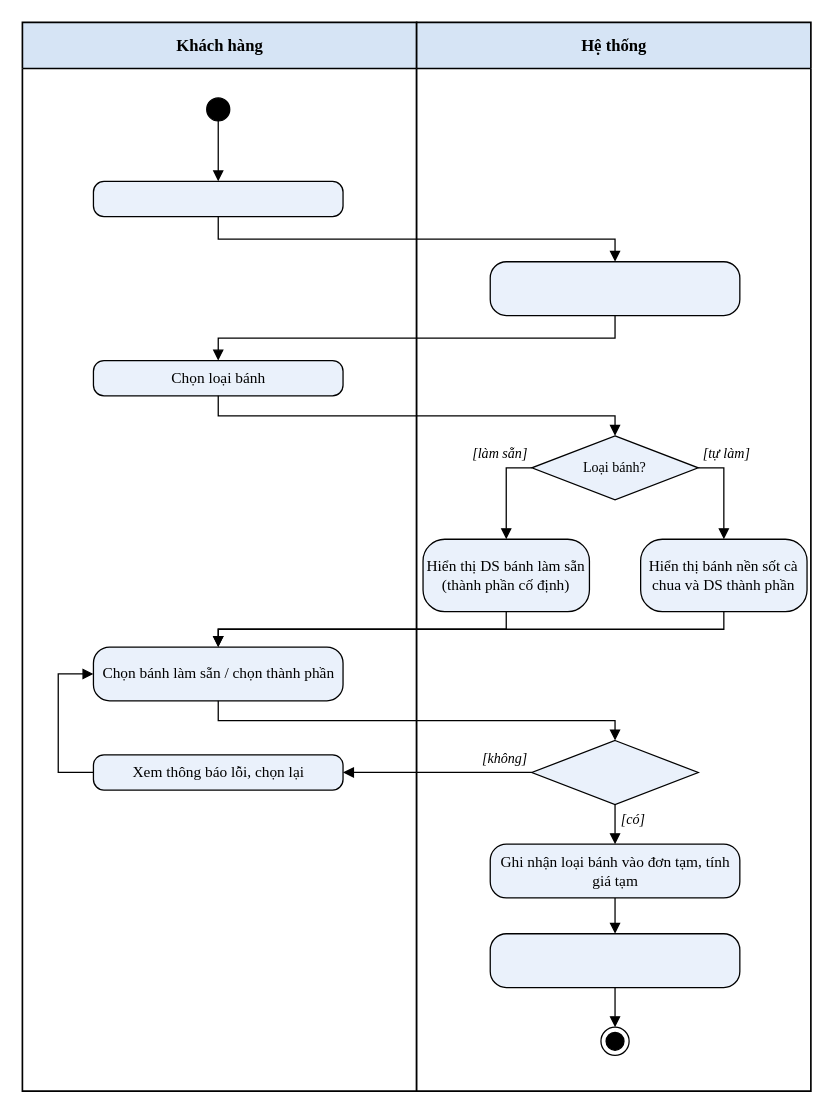
Some shapes in this 835 by 1115 pixel diagram are drawn without their labels. Here are the shapes that lost their labels. From the top down, the centre of each, then its label:
point (217, 198): Chọn “Đặt bánh Pizza”
point (614, 288): Hiển thị 2 lựa chọn: Bánh làm sẵn / Bánh tự làm
point (614, 771): Lựa chọn hợp lệ?
point (614, 960): Chuyển sang màn hình tùy chỉnh bánh
